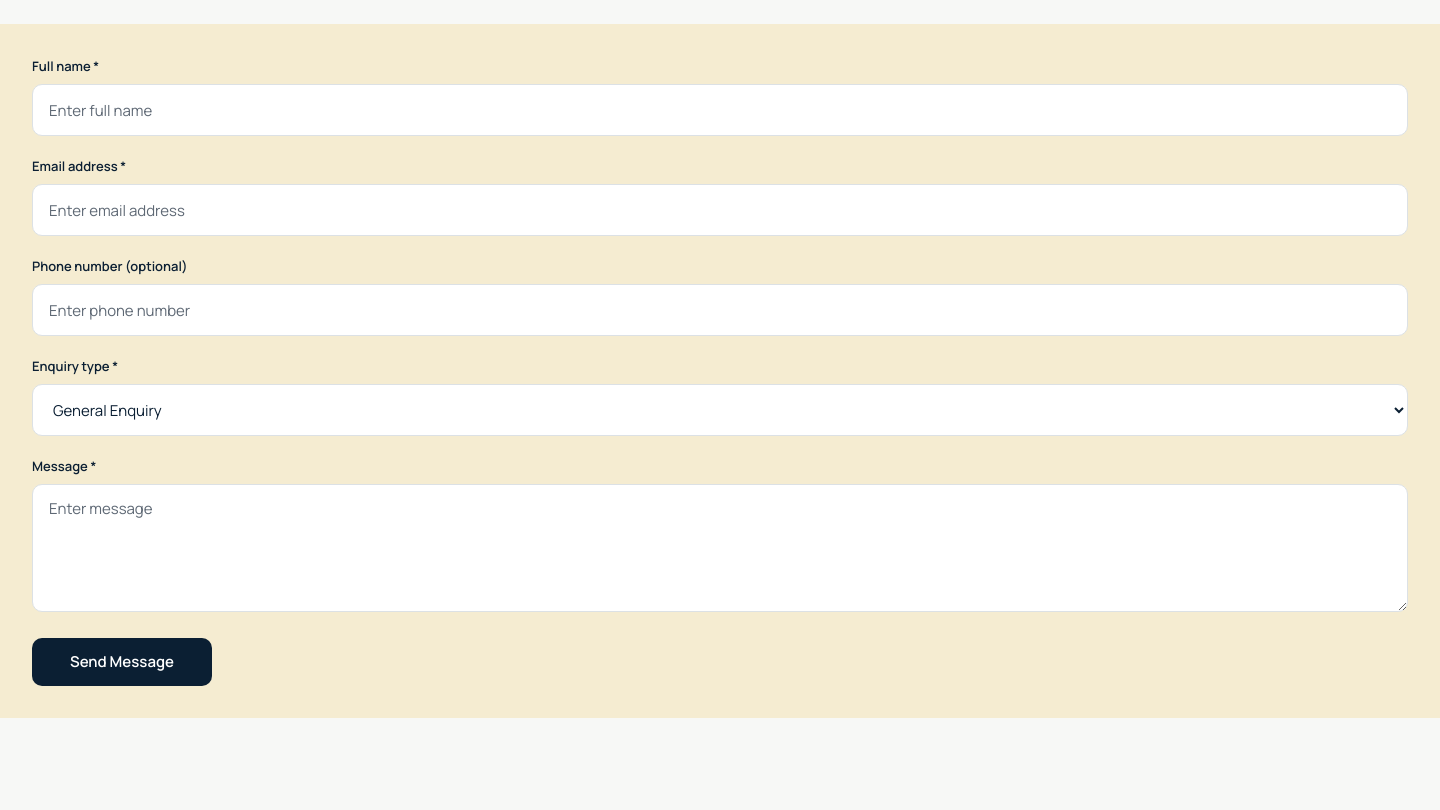
contact and renewal request UX › shows successful mocked contact submission and clears values
This screenshot has width=1440, height=810.
In the field labelled "Full name *": (720, 110) x1=32 y1=84 x2=1408 y2=136, type "Test Visitor"
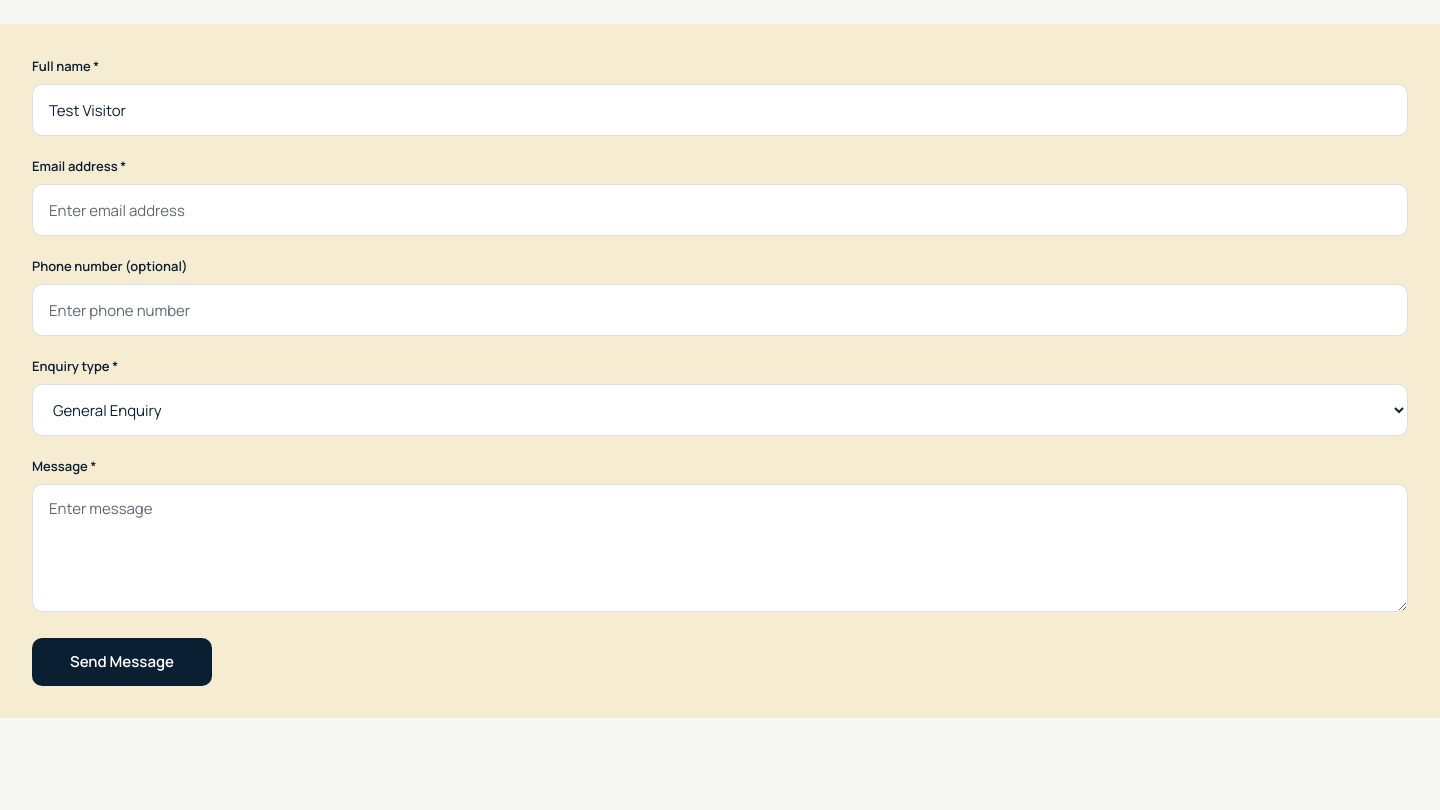
Submit the form
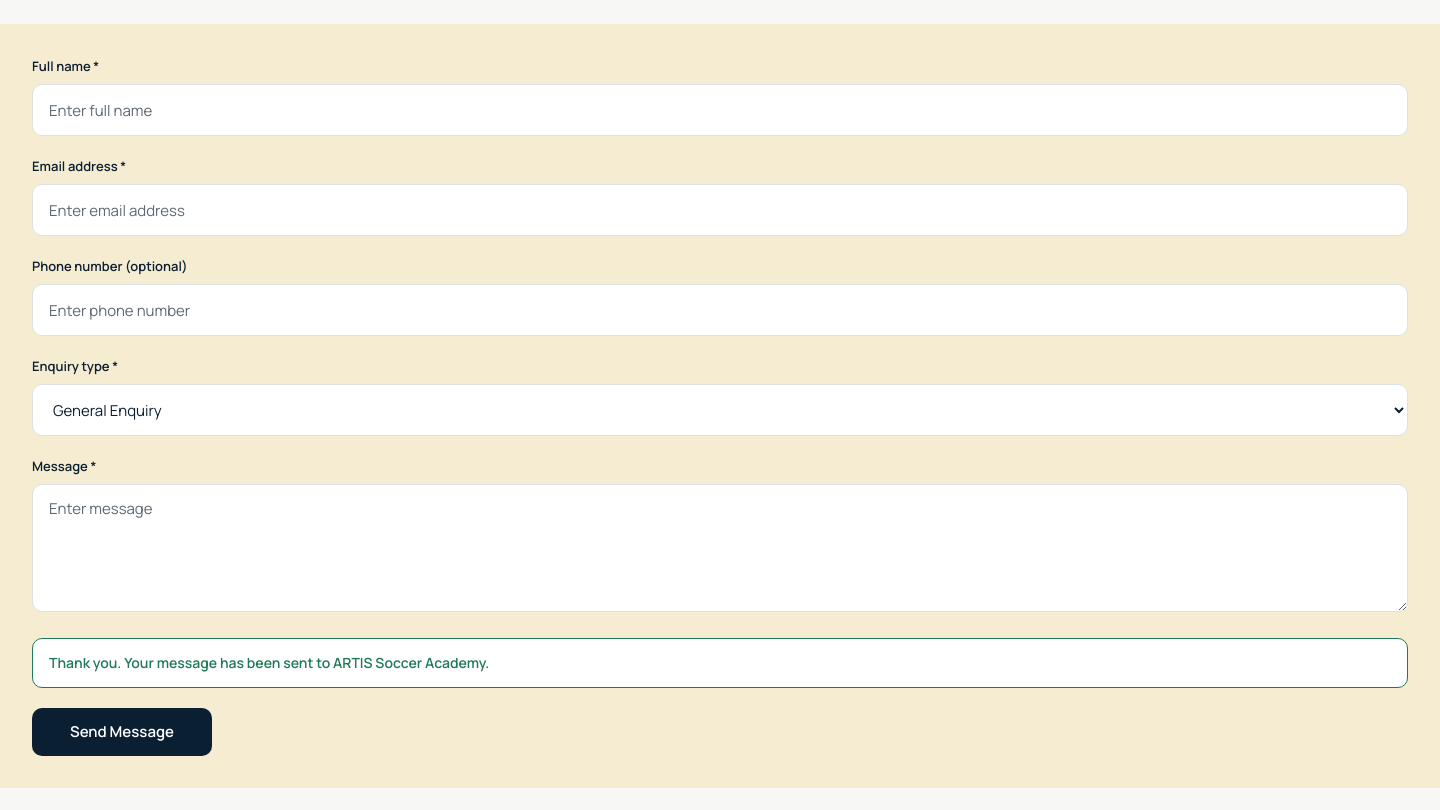
Now the text "Thank you. Your message has been sent" is shown, box x1=49 y1=653 x2=489 y2=672
Now the field labelled "Full name *" is empty, box x1=32 y1=84 x2=1408 y2=136
